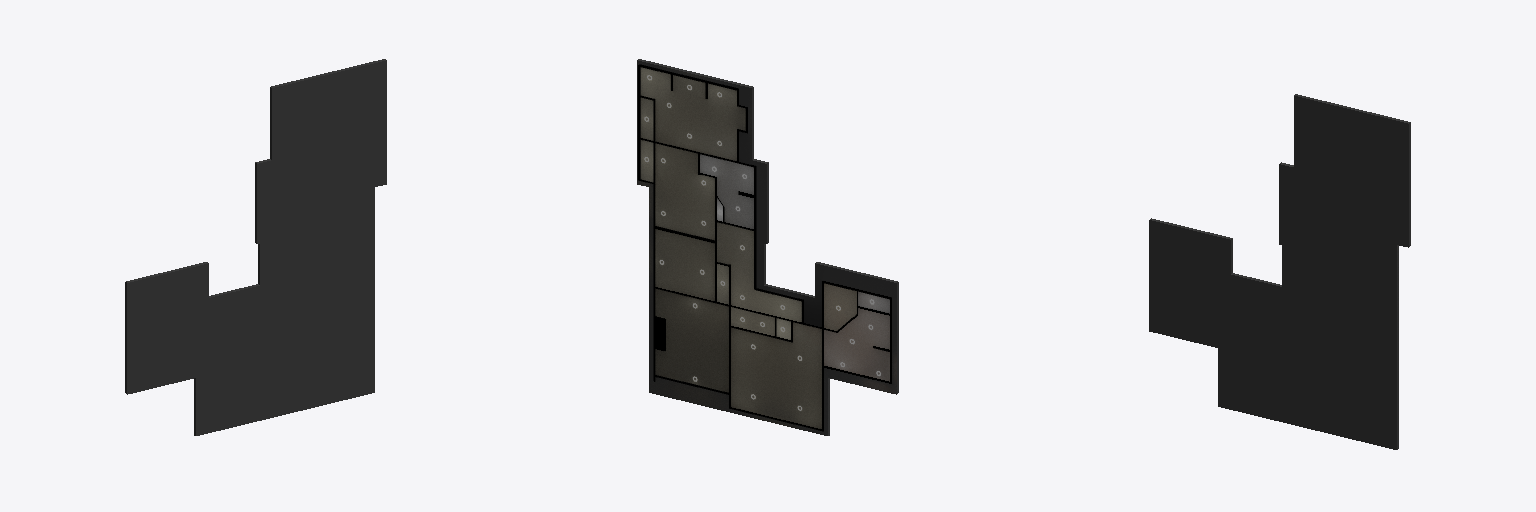
3 views of the same model, side by side, from view 1: azimuth 30°, elevation 25°; view 2: azimuth 150°, elevation 25°; view 3: azimuth 330°, elevation 25° (orthographic).
Size of the model in its own units: 14.15 by 17.2 by 0.2.
1 materials, 1 textured.